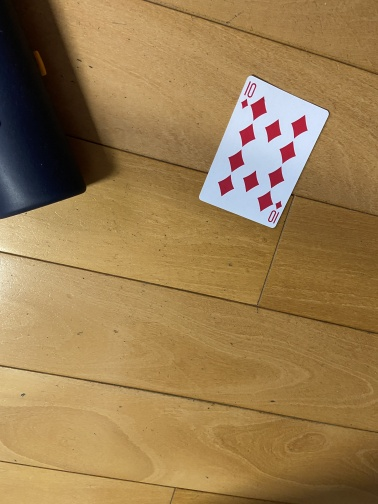ten: (197, 74, 331, 230)
